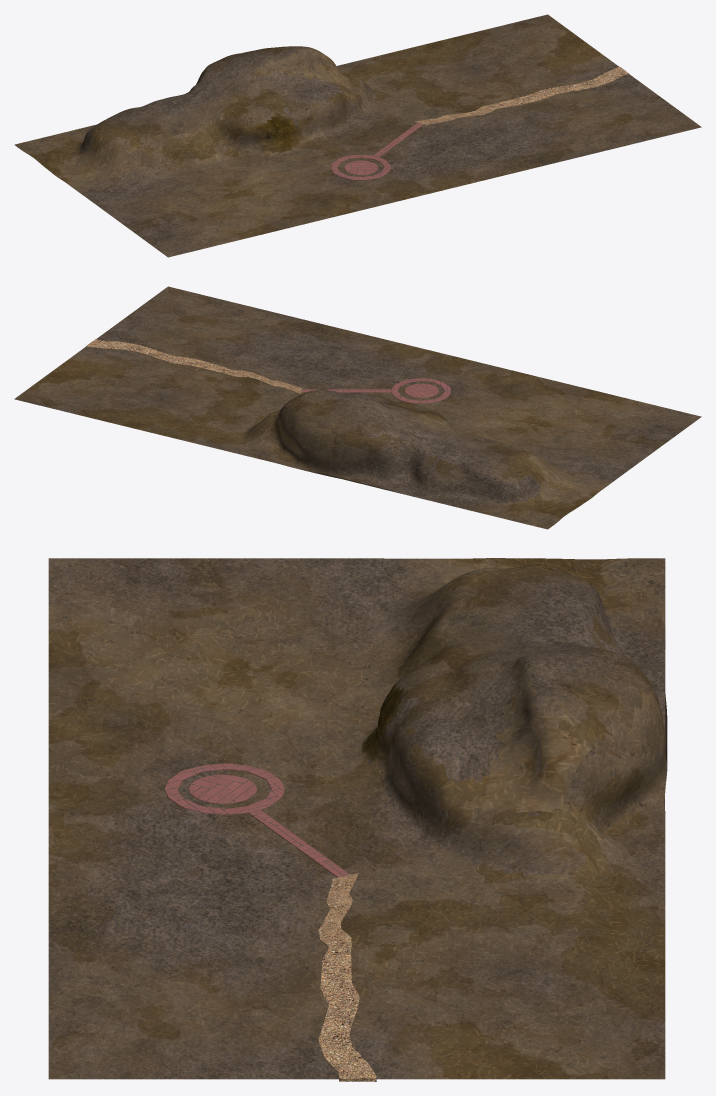
File: NewVillage.fbx
The picture shows the model from 3 angles, top to bottom: view 1: azimuth 30°, elevation 25°; view 2: azimuth 150°, elevation 25°; view 3: azimuth 270°, elevation 25°; orthographic projection. The views are drawn at different scales.
Visible parts, largest first — view 1: VillagePlaneW, OutoftownRoad3, PlazaSurroundPath, OutoftownRoad1, MainPlaza; view 2: VillagePlaneW, OutoftownRoad3, PlazaSurroundPath, OutoftownRoad1, MainPlaza; view 3: VillagePlaneW, OutoftownRoad3, PlazaSurroundPath, OutoftownRoad1, MainPlaza, CityPath.
Part boxes in pixels (x1,y1,x2,y2): VillagePlaneW: [14, 14, 701, 257]; OutoftownRoad3: [493, 67, 628, 108]; PlazaSurroundPath: [331, 154, 390, 179]; OutoftownRoad1: [413, 104, 498, 124]; MainPlaza: [344, 160, 377, 174]; VillagePlaneW: [14, 286, 701, 529]; OutoftownRoad3: [86, 339, 231, 374]; PlazaSurroundPath: [391, 378, 450, 403]; OutoftownRoad1: [226, 370, 301, 394]; MainPlaza: [405, 383, 438, 397]; VillagePlaneW: [48, 558, 667, 1079]; OutoftownRoad3: [318, 948, 376, 1081]; PlazaSurroundPath: [164, 763, 284, 814]; OutoftownRoad1: [318, 872, 358, 948]; MainPlaza: [188, 774, 256, 803]; CityPath: [247, 809, 349, 877].
Size of the model in its own units: 2967 by 297 by 1487.
